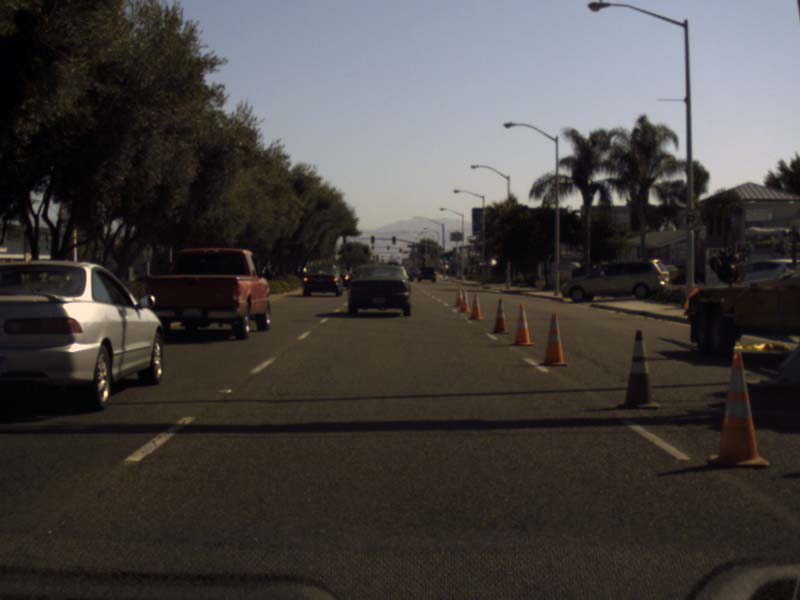Green: (446, 250, 453, 260)
